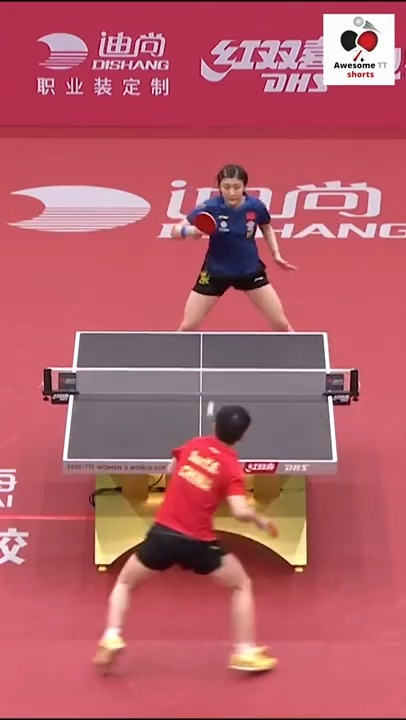Ball: (204, 403, 217, 416)
